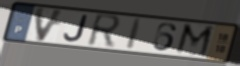6: (152, 22, 178, 53)
I: (124, 18, 145, 52)
J: (62, 14, 90, 44)
M: (172, 22, 217, 59)
R: (85, 12, 124, 50)
V: (34, 5, 67, 43)
